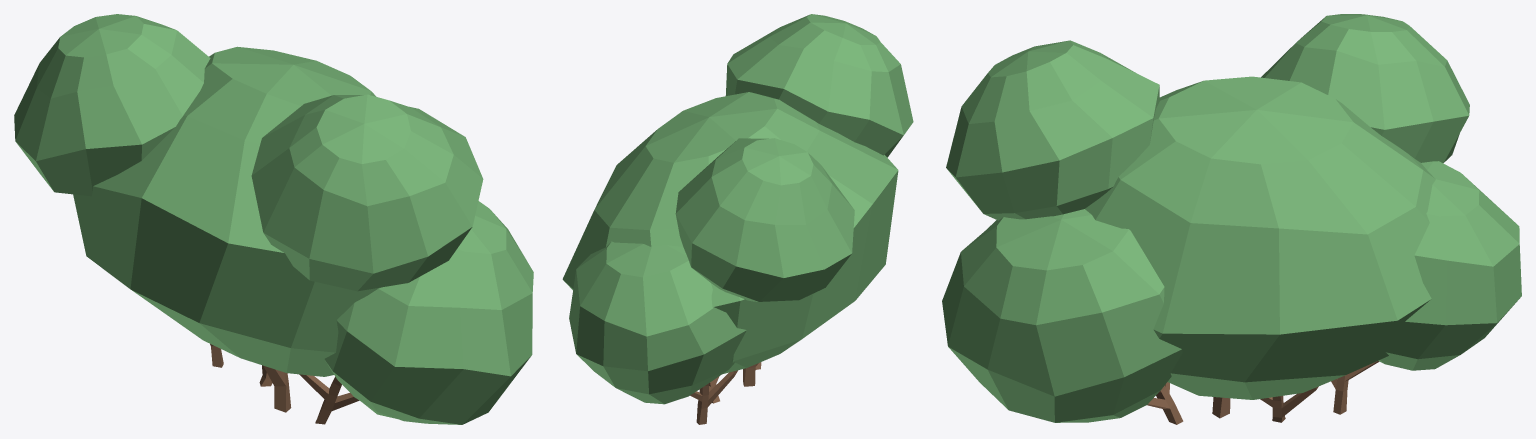
The model's file is Bushes_bush_01.005.fbx.
The picture shows the model from 3 angles, left to right: view 1: azimuth 30°, elevation 25°; view 2: azimuth 150°, elevation 25°; view 3: azimuth 270°, elevation 25°; orthographic projection. The views are drawn at different scales.
Parts seen in each view (by area): view 1: Bushes_bush_01.005; view 2: Bushes_bush_01.005; view 3: Bushes_bush_01.005.
Part boxes in pixels (bbox=[...]): Bushes_bush_01.005: bbox=[14, 14, 533, 424]; Bushes_bush_01.005: bbox=[562, 14, 913, 424]; Bushes_bush_01.005: bbox=[942, 14, 1521, 424].
Size of the model in its own units: 86.48 by 87.82 by 127.
